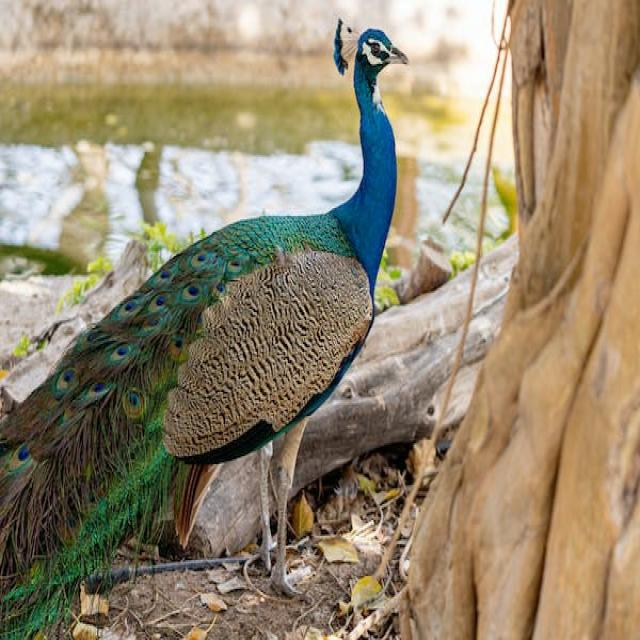peacock: (0, 20, 411, 632)
